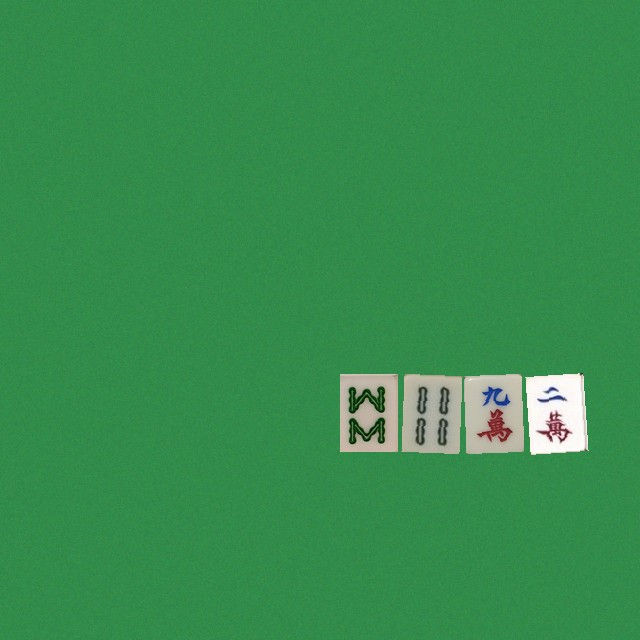tile: (339, 373, 397, 451), (401, 373, 459, 451), (463, 373, 521, 451), (525, 373, 583, 451)
